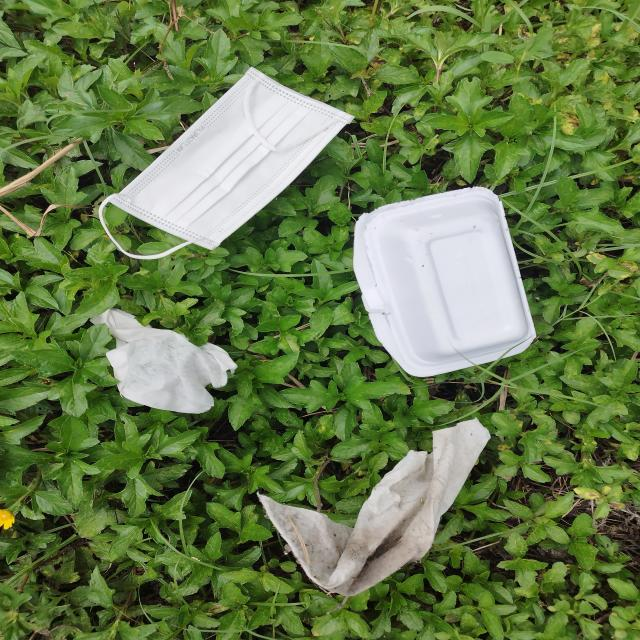foam box: (353, 185, 538, 378)
mask: (97, 68, 355, 261)
napkin: (256, 418, 493, 596), (98, 309, 238, 416)
